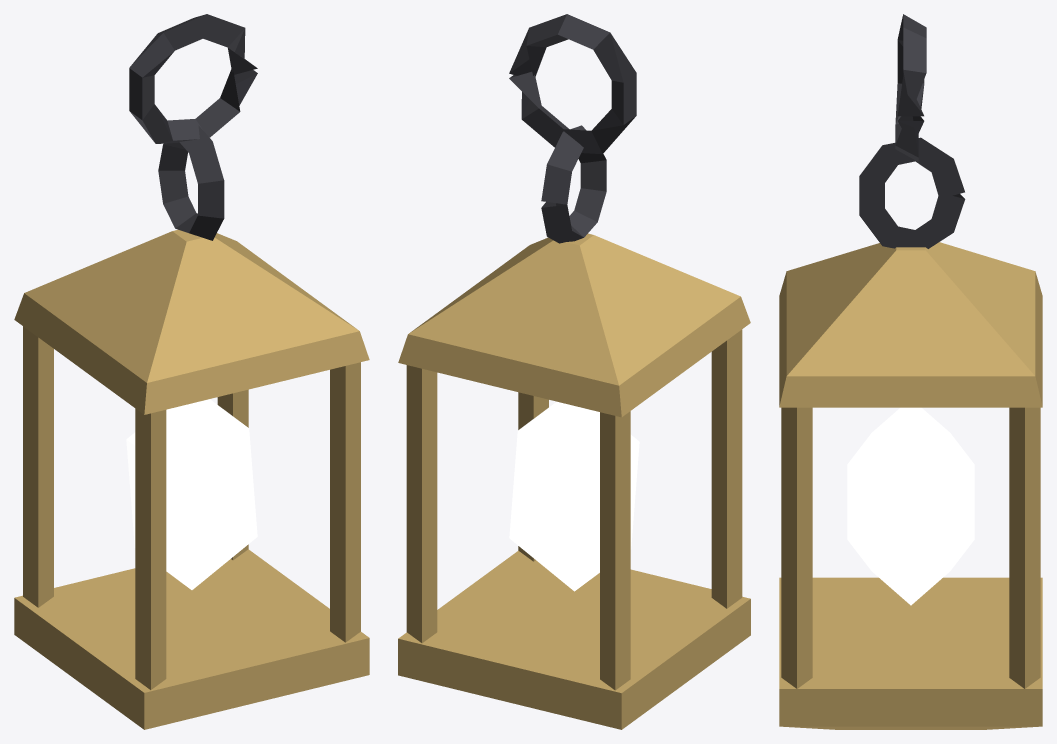
File: lantern.glb
3 renders of one model, left to right at view 1: azimuth 30°, elevation 25°; view 2: azimuth 150°, elevation 25°; view 3: azimuth 270°, elevation 25°, orthographic. The views are drawn at different scales.
Visible parts, largest first — view 1: lantern; view 2: lantern; view 3: lantern.
Part boxes in pixels (x1,y1,x2,y2): lantern: [14, 14, 369, 729]; lantern: [398, 14, 750, 729]; lantern: [779, 14, 1042, 729].
Bounding box in the file's own units: 0.051 × 0.1444 × 0.0509.
